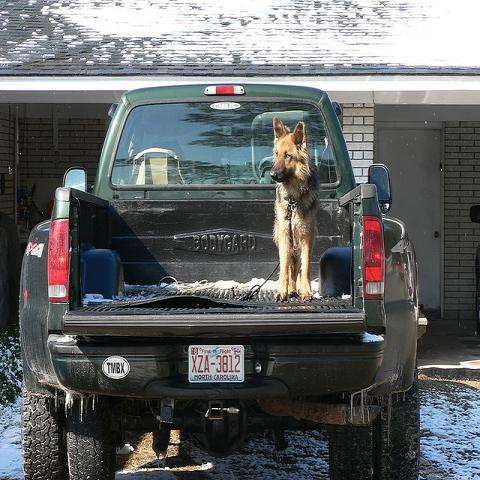truck: (20, 82, 430, 479)
